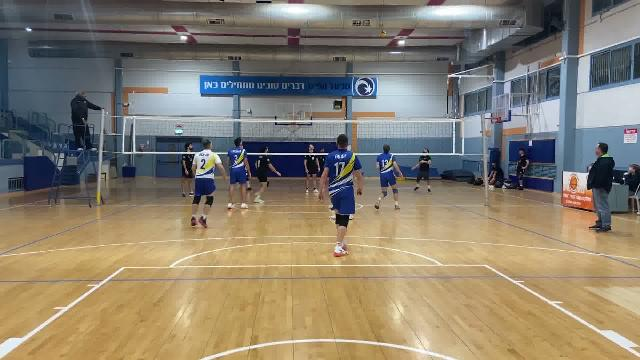ball: (377, 31, 389, 41)
